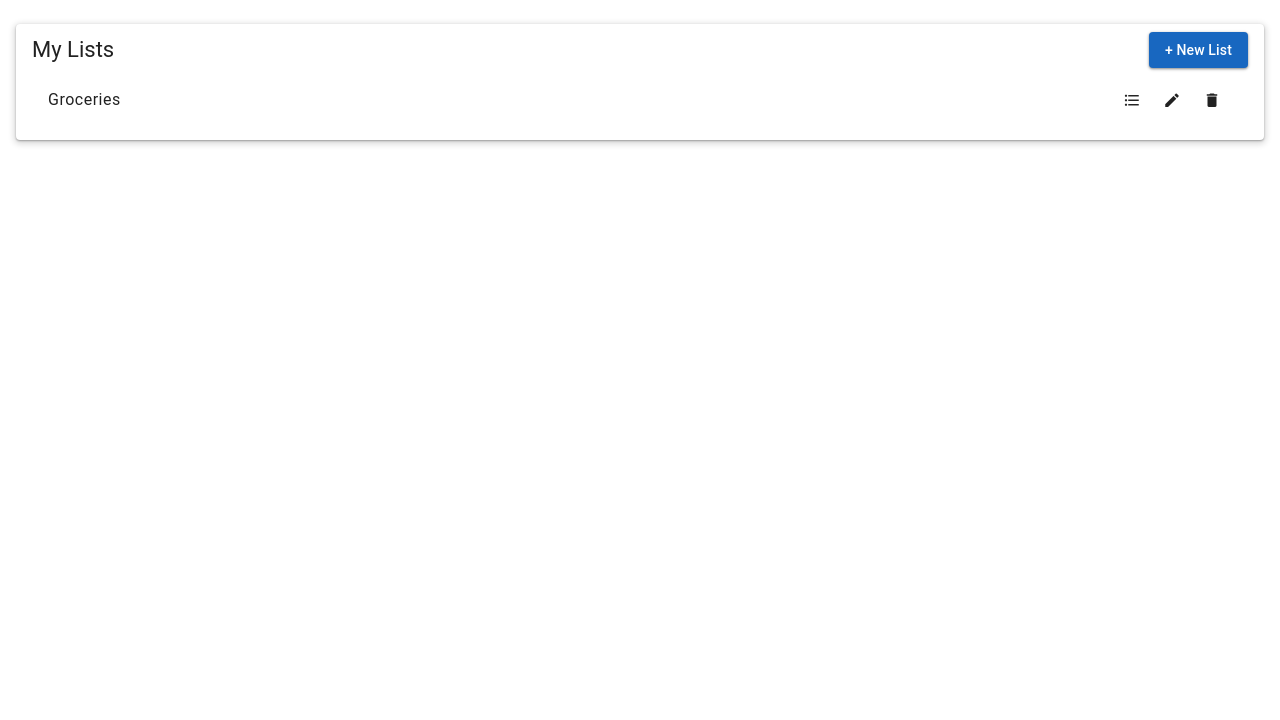
Test: Feature 5 — Dashboard due dates › US-5.4 — Spot overdue todos › Incomplete todo past due date is styled as overdue
What coordinates should you click on to do the following:
click the button named "View items for Groceries"
I would click on:
 (1132, 100)
Its box is x1=1112 y1=80 x2=1152 y2=120.
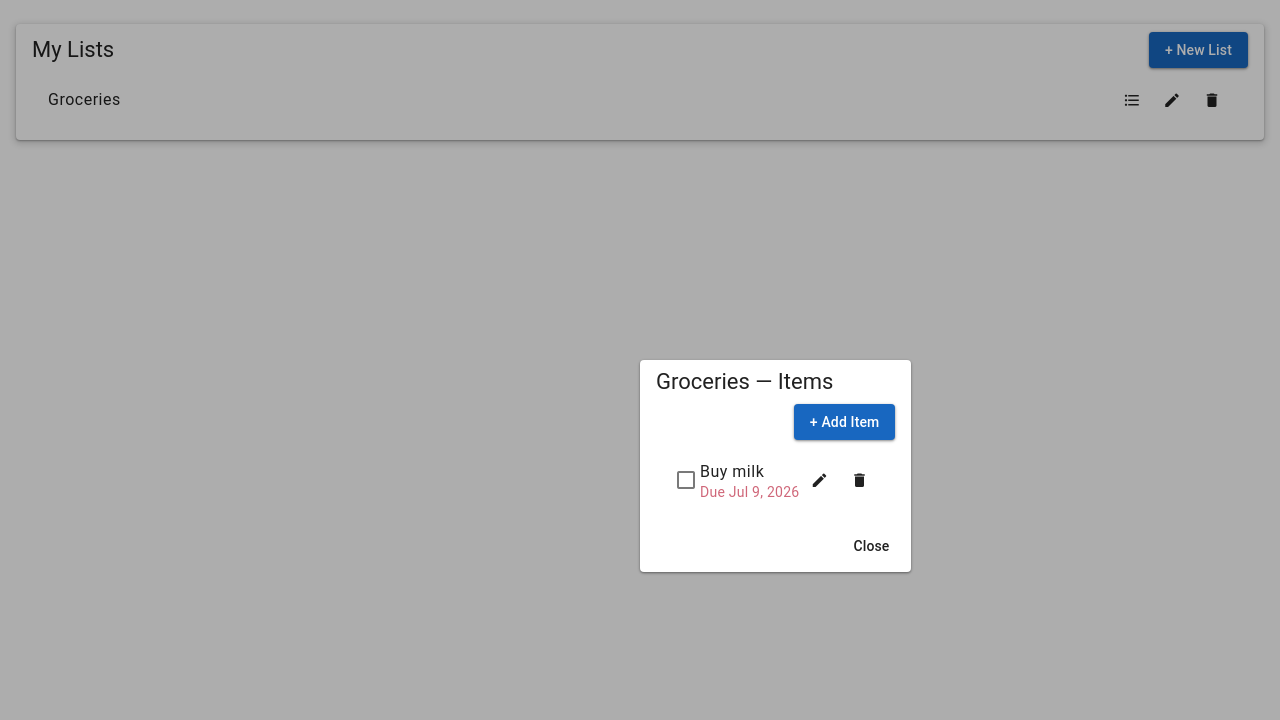
Expected: the text "Due Jul 9, 2026" is shown, x1=700 y1=484 x2=800 y2=500
